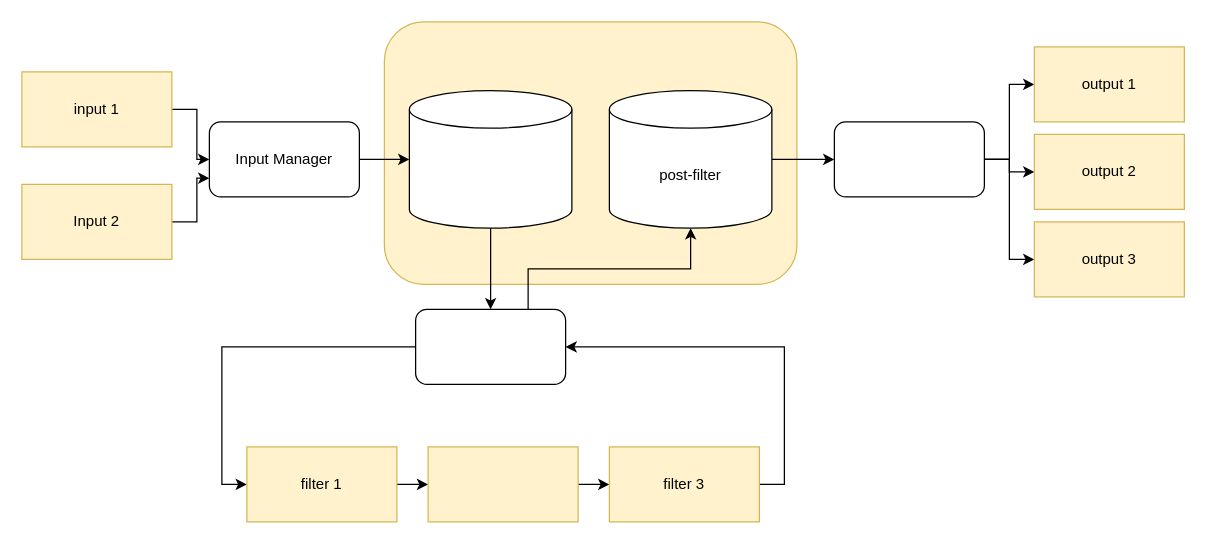
Some shapes in this 1206 by 544 pixel diagram are drawn without their labels. The centre of each missing label's shape, as x and y in pixels:
"filter 2" belongs at point 502,484.
"Filter Worker" belongs at point 490,346.
"output manager" belongs at point 908,159.
"pre-filter" belongs at point 490,158.
